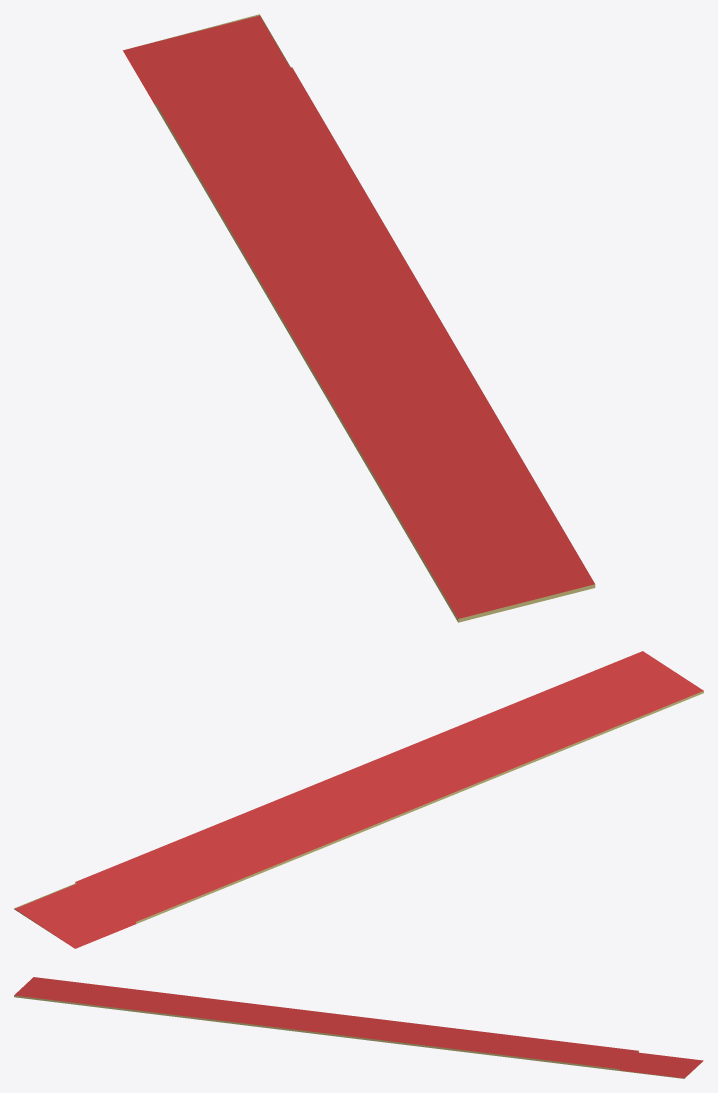
3 renders of one model, top to bottom at view 1: azimuth 30°, elevation 25°; view 2: azimuth 150°, elevation 25°; view 3: azimuth 270°, elevation 25°, orthographic. The views are drawn at different scales.
Bounding box in the file's own units: 12.67 × 33.49 × 0.65.
